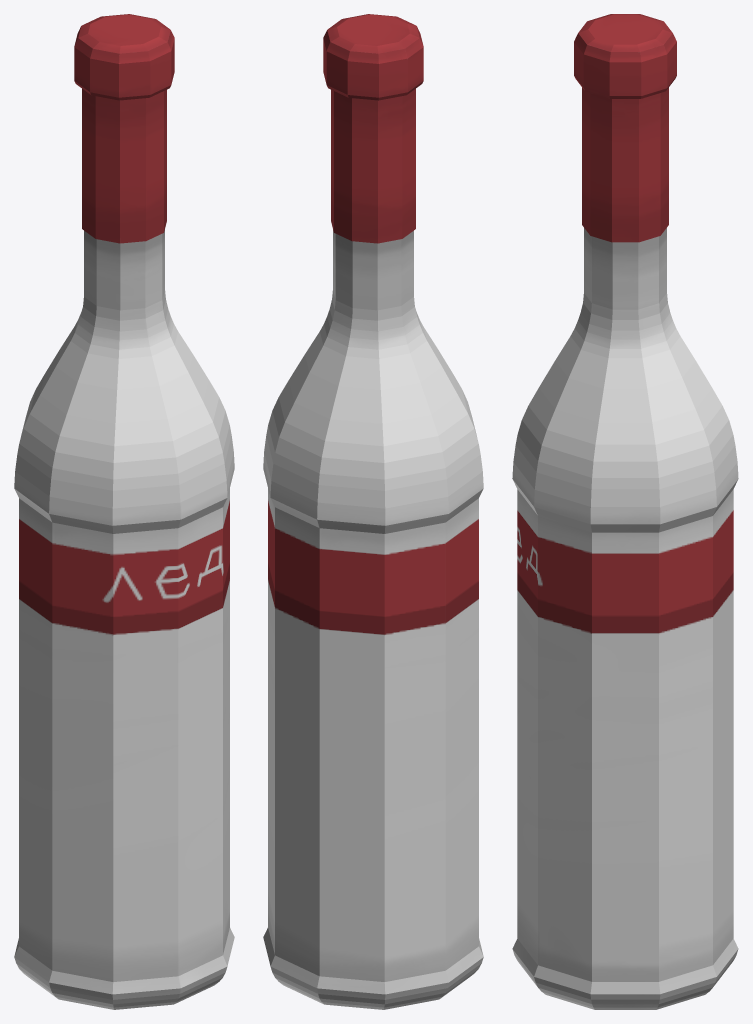
The model's file is IceVodka.fbx.
3 views of the same model, side by side, from view 1: azimuth 30°, elevation 25°; view 2: azimuth 150°, elevation 25°; view 3: azimuth 270°, elevation 25° (orthographic).
Parts seen in each view (by area): view 1: Bottle; view 2: Bottle; view 3: Bottle.
Boxes of the visible parts, x1,y1,x2,y2 form: Bottle: (14,14,234,1009); Bottle: (263,14,483,1009); Bottle: (512,14,738,1009).
Bounding box in the file's own units: 9.15 × 44.19 × 9.63.
Materials: 1 (1 with a texture image).
